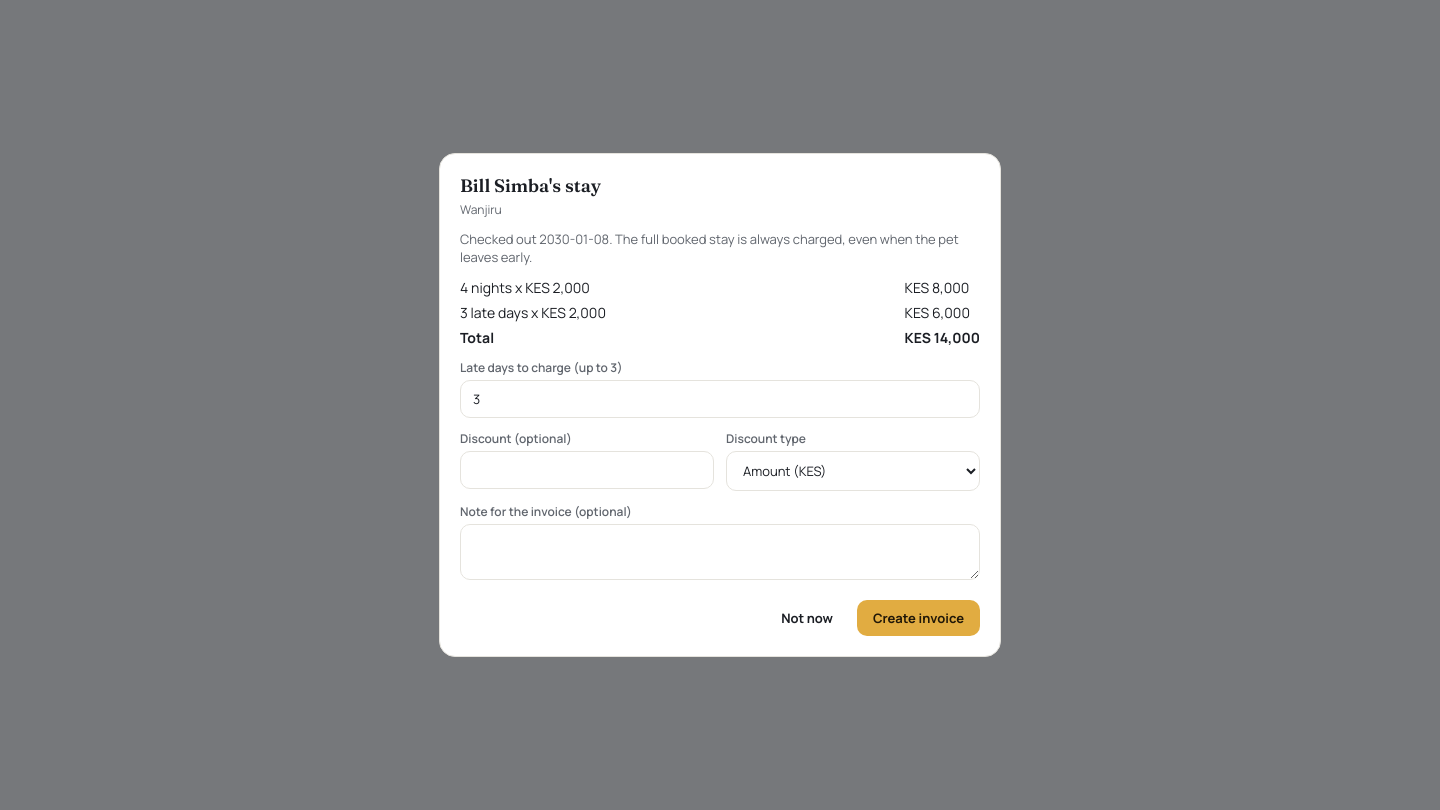
Test: StayInvoiceModal › shows the database's reason when billing is refused, and confirms success
The width and height of the screenshot is (1440, 810).
Click the button "Create invoice" at [918, 618], box [857,600,980,636]
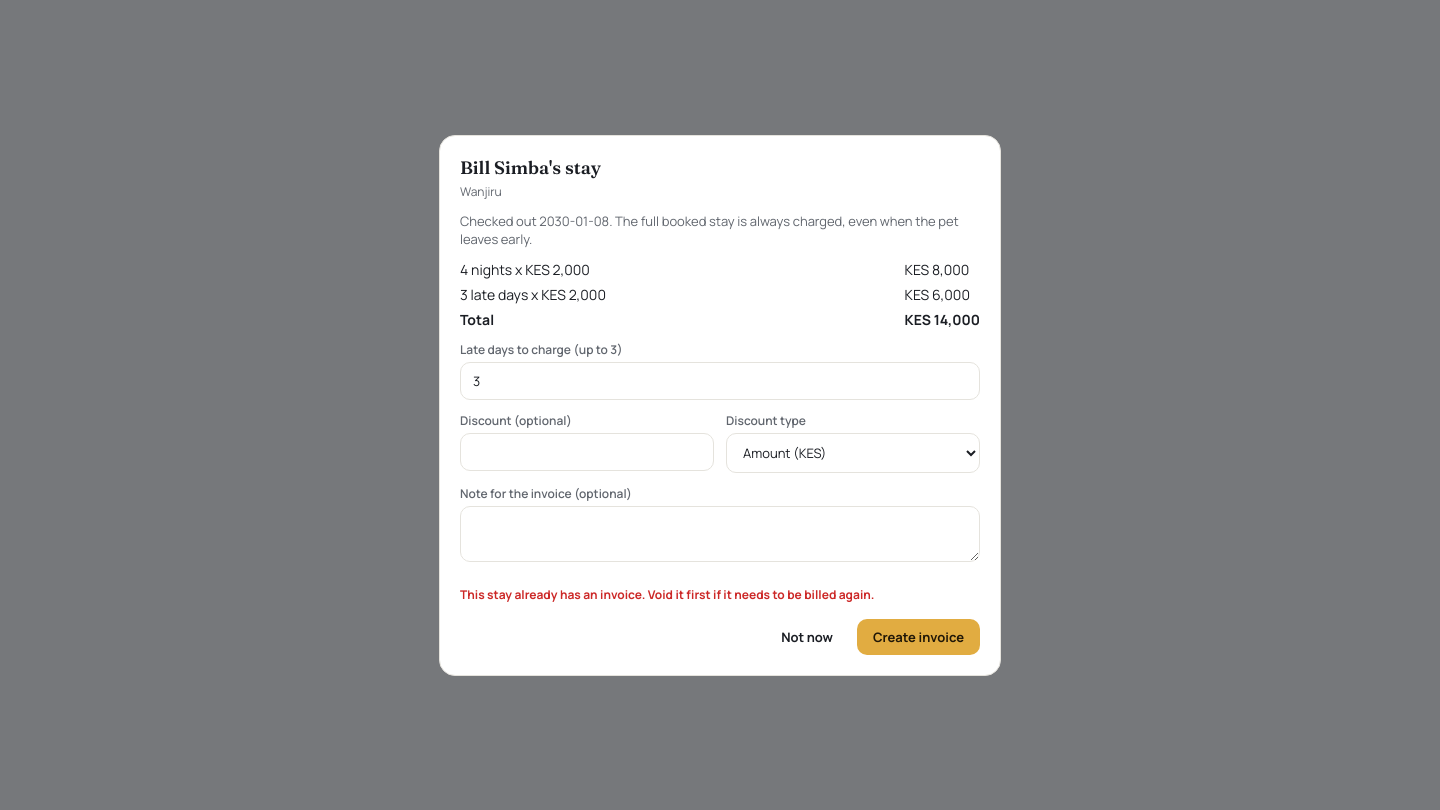
expect the text "already has an invoice" is shown: met, box [460,586,874,602]
